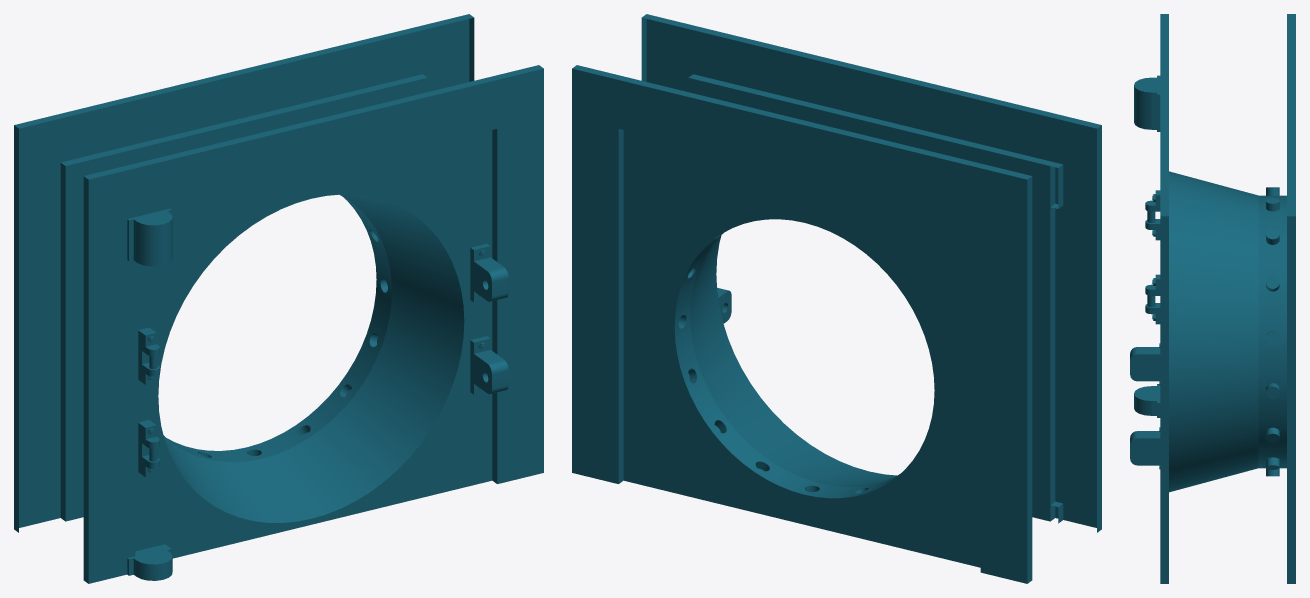
The model's file is SM_Bank_Vault_01b.FBX.
The picture shows the model from 3 angles, left to right: view 1: azimuth 30°, elevation 25°; view 2: azimuth 150°, elevation 25°; view 3: azimuth 270°, elevation 25°; orthographic projection. The views are drawn at different scales.
Visible parts, largest first — view 1: SM_Bank_Vault_01b_LOD0; view 2: SM_Bank_Vault_01b_LOD0; view 3: SM_Bank_Vault_01b_LOD0.
Part boxes in pixels (bbox=[...]): SM_Bank_Vault_01b_LOD0: bbox=[14, 14, 543, 583]; SM_Bank_Vault_01b_LOD0: bbox=[572, 14, 1101, 583]; SM_Bank_Vault_01b_LOD0: bbox=[1130, 14, 1295, 583].
Size of what is drawn, in the model's own units: 400 by 339 by 139.
